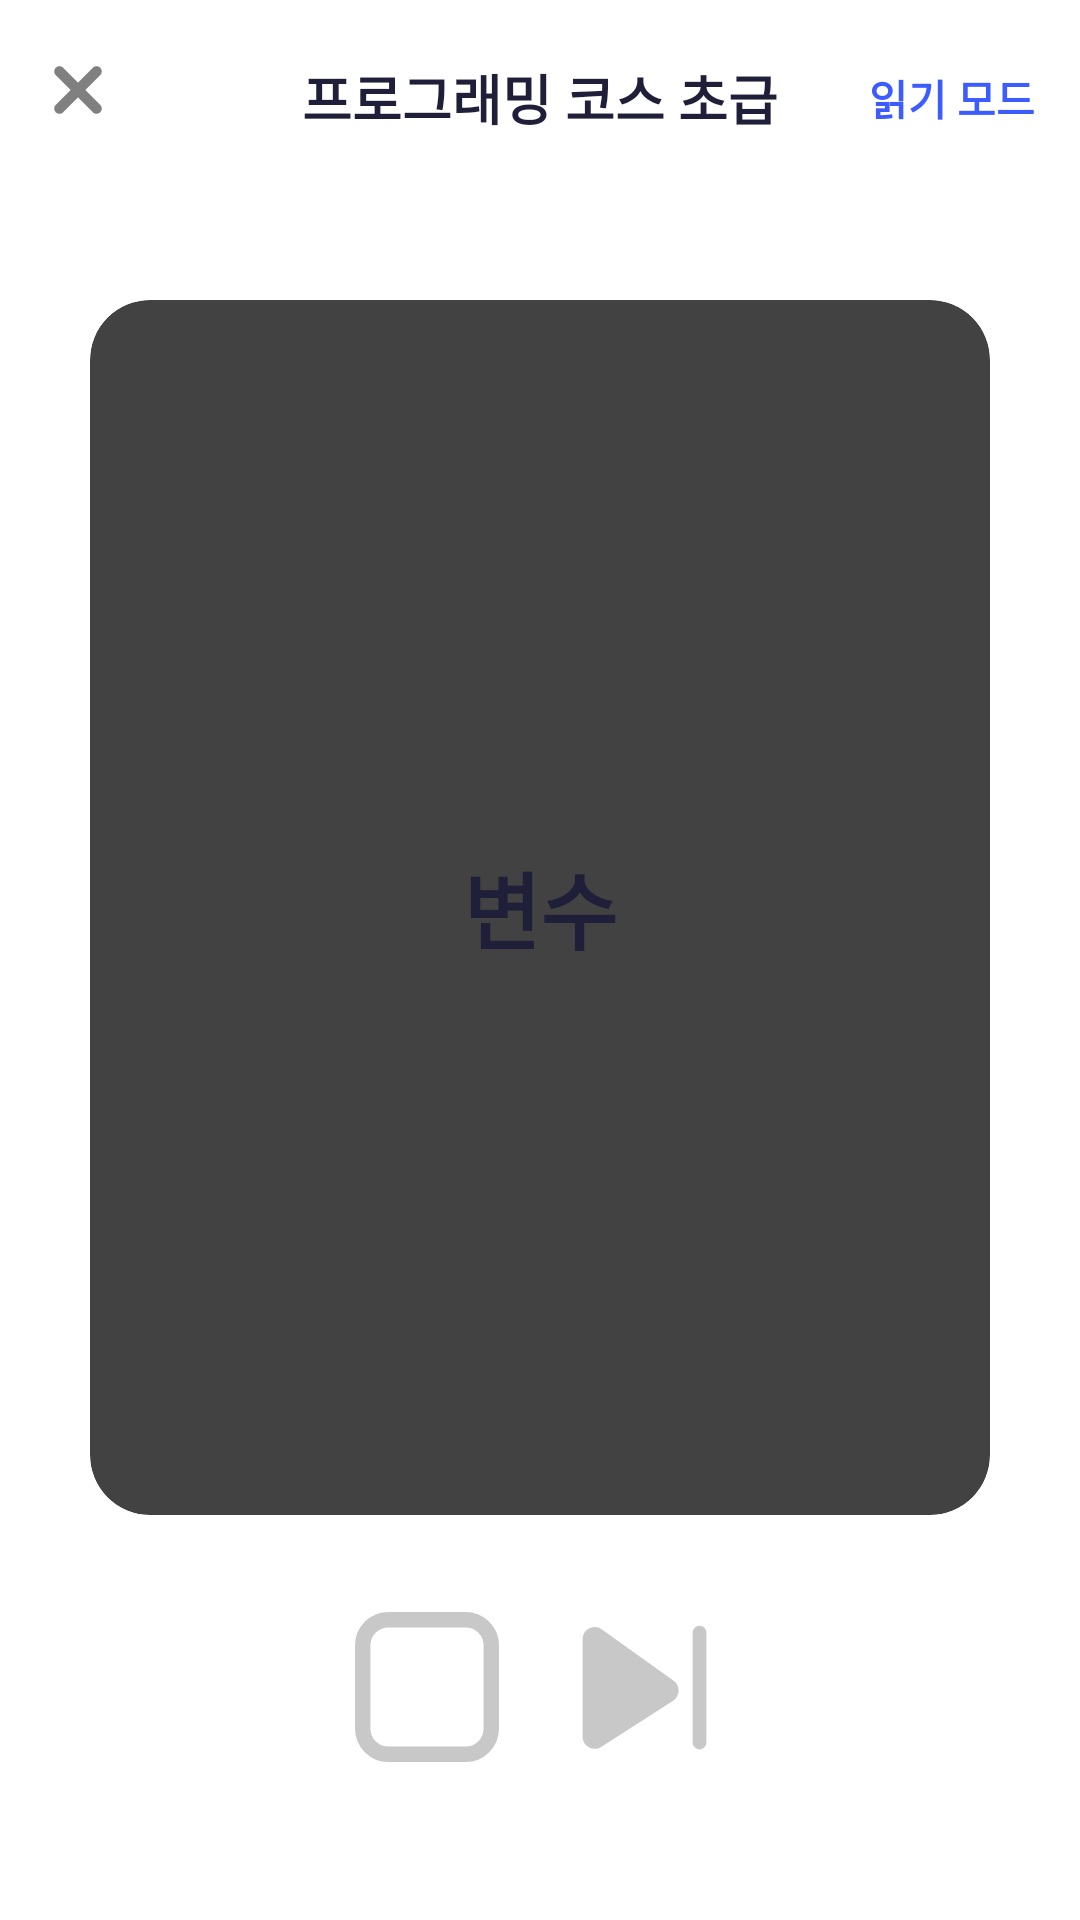

Named icons in this screenshot (1080 x 1920) and their bounding boxes, (x1, y1, x2, y2):
close: (54, 66, 102, 114)
skip: (583, 1626, 706, 1750)
stop: (355, 1612, 499, 1762)
